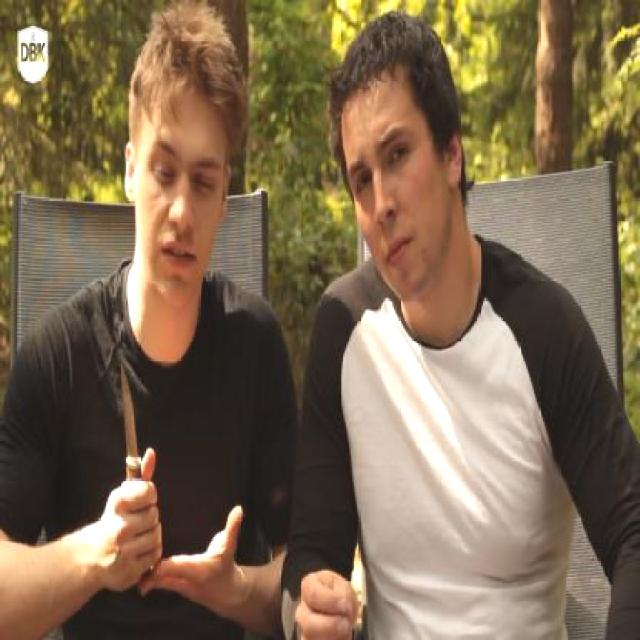knife: (105, 343, 169, 548)
